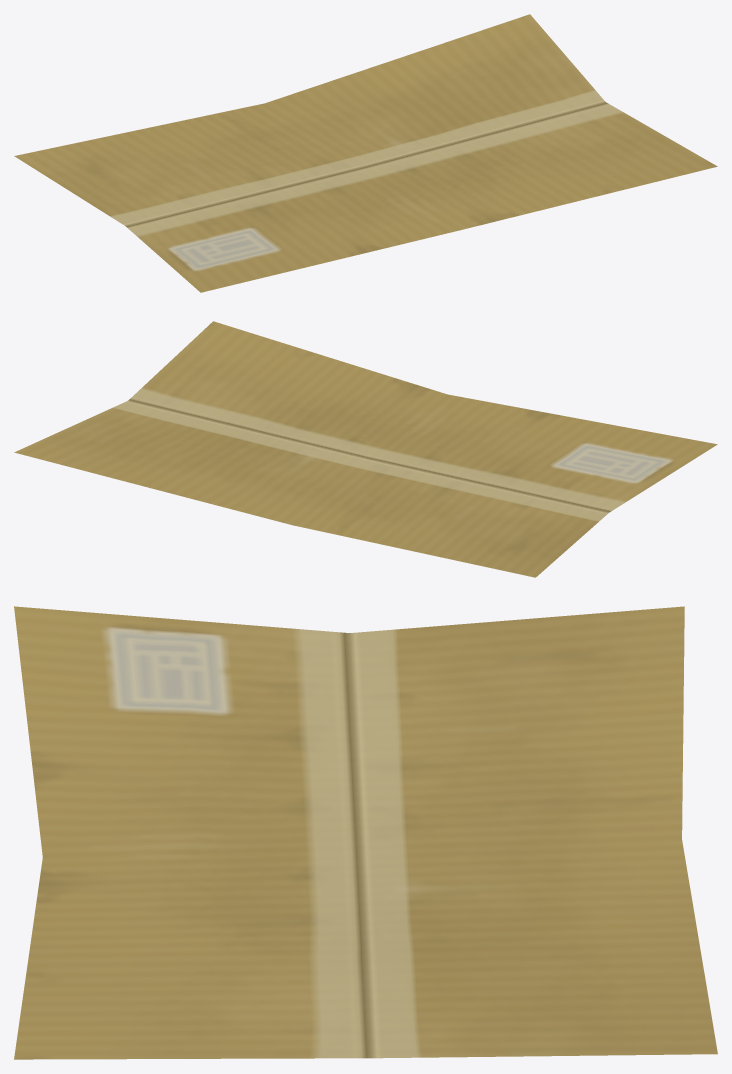
File: p_mesh_smallbox_part01.fbx
The picture shows the model from 3 angles, top to bottom: view 1: azimuth 30°, elevation 25°; view 2: azimuth 150°, elevation 25°; view 3: azimuth 270°, elevation 25°; orthographic projection. The views are drawn at different scales.
Visible parts, largest first — view 1: p_mesh_containers_onionbox_part01; view 2: p_mesh_containers_onionbox_part01; view 3: p_mesh_containers_onionbox_part01.
Boxes of the visible parts, <box> form: p_mesh_containers_onionbox_part01: <box>14,14,717,292</box>; p_mesh_containers_onionbox_part01: <box>14,321,717,577</box>; p_mesh_containers_onionbox_part01: <box>14,606,717,1059</box>.
Size of the model in its own units: 3.16 by 0.0896 by 2.04.
